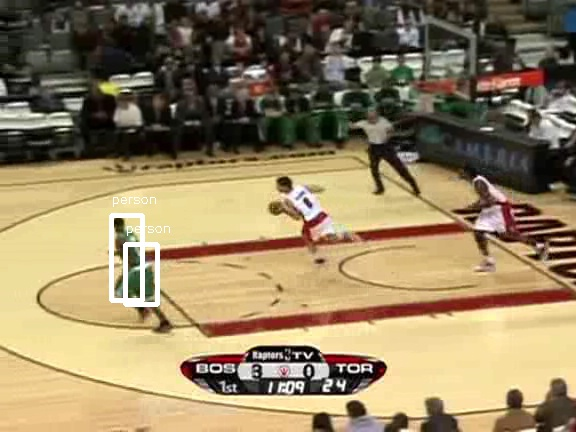person: (115, 221, 149, 302), (114, 221, 148, 302), (116, 221, 150, 302), (115, 220, 149, 301), (115, 222, 149, 303)
target_negative: (17, 226, 289, 414), (295, 326, 549, 417), (89, 405, 539, 425), (486, 2, 510, 238), (486, 23, 498, 378)
